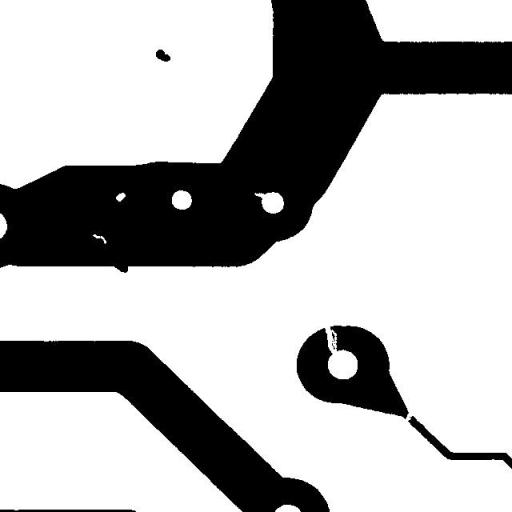copper: (148, 42, 178, 68)
mousebite: (246, 185, 274, 207)
open: (317, 316, 344, 362), (394, 402, 422, 430)
pin-hole: (84, 226, 114, 252), (108, 185, 133, 209)
spur: (106, 256, 136, 280)
